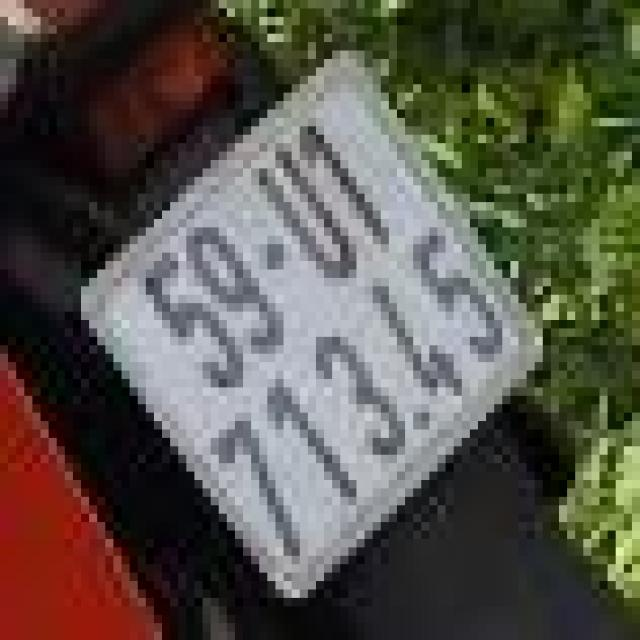1: (247, 362, 381, 521), (278, 104, 411, 263)
3: (301, 319, 428, 478)
4: (351, 256, 485, 428)
5: (123, 242, 266, 403), (397, 215, 526, 376)
7: (197, 398, 330, 579)
9: (168, 204, 311, 369)
U: (240, 138, 373, 297)
